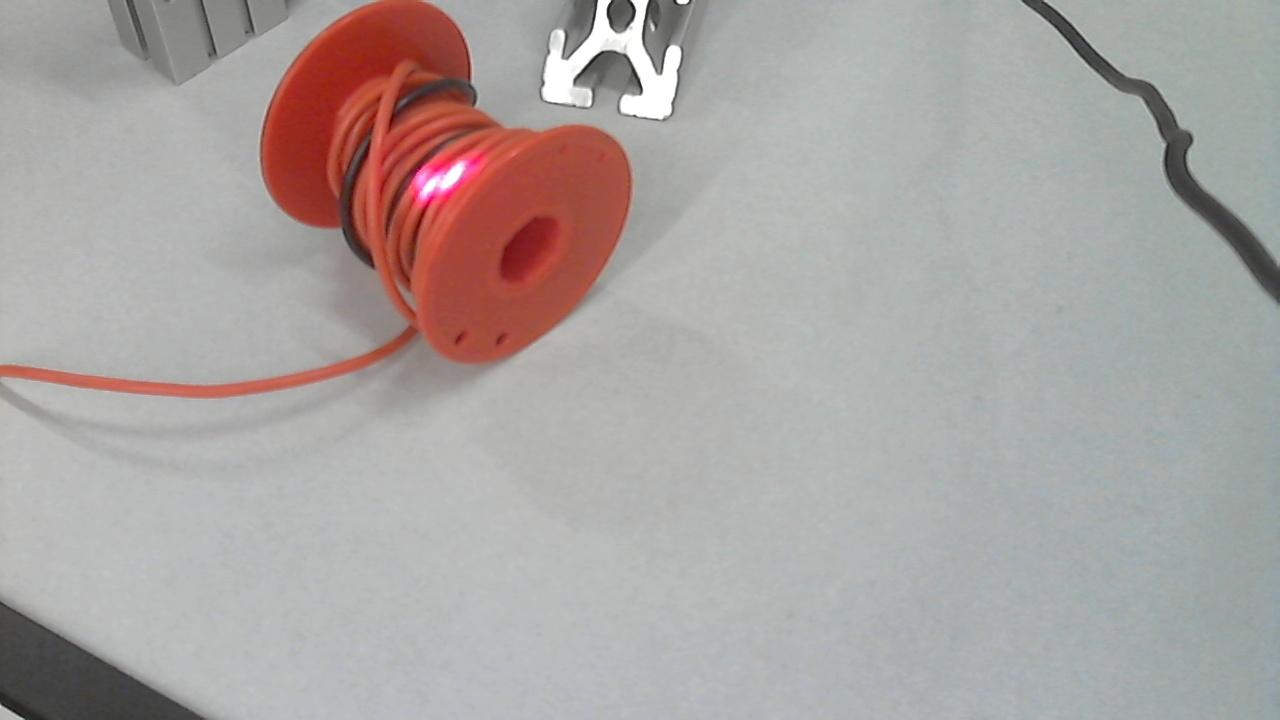Object wire spool - Material rubber - Color oranges - Pdfname ZryFz3DBSiO8: (386, 143, 483, 195)
